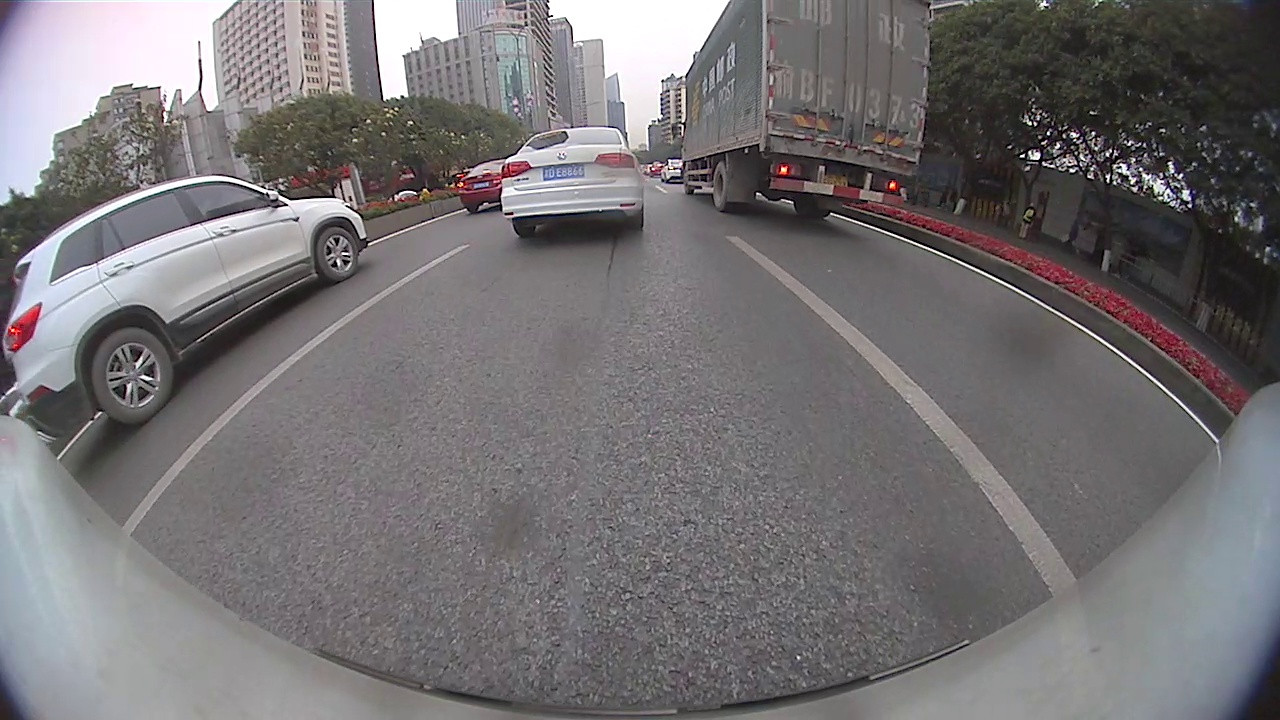car: (4, 174, 369, 428), (500, 127, 647, 241), (458, 158, 510, 214), (658, 157, 684, 184)
front: (316, 225, 359, 283), (682, 166, 697, 194)
rear: (91, 327, 173, 426), (712, 159, 737, 214)
truck: (683, 1, 930, 220)
